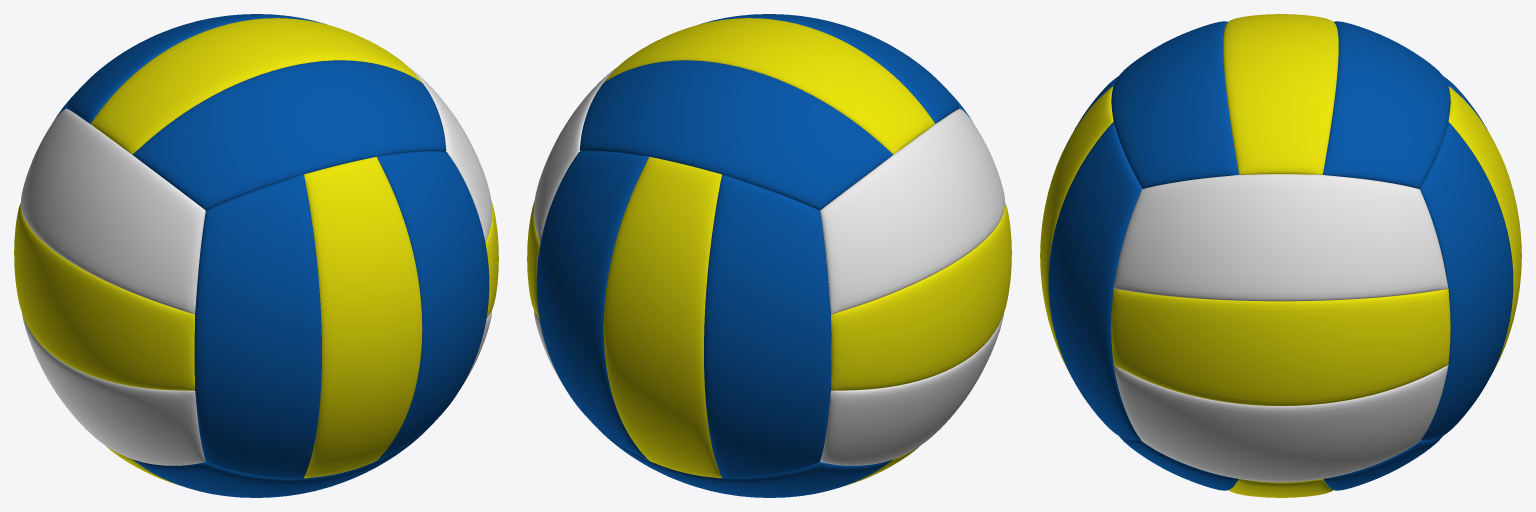
File: paiqiu.fbx
3 views of the same model, side by side, from view 1: azimuth 30°, elevation 25°; view 2: azimuth 150°, elevation 25°; view 3: azimuth 270°, elevation 25° (orthographic).
Parts seen in each view (by area): view 1: qaiqiu_4; view 2: qaiqiu_4; view 3: qaiqiu_4.
Part boxes in pixels (bbox=[...]): qaiqiu_4: bbox=[14, 14, 498, 497]; qaiqiu_4: bbox=[527, 14, 1011, 497]; qaiqiu_4: bbox=[1040, 14, 1521, 497].
Size of the model in its own units: 2.02 by 2.02 by 2.02.
